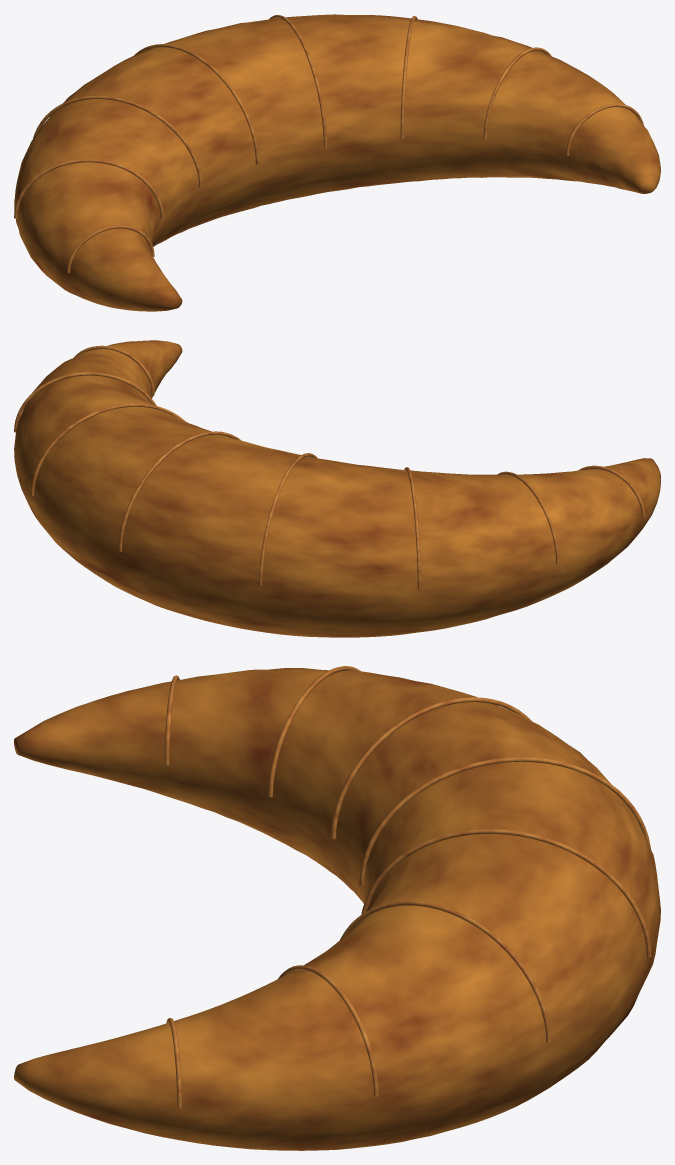
The model's file is food_burst_runtime.glb.
The picture shows the model from 3 angles, top to bottom: view 1: azimuth 30°, elevation 25°; view 2: azimuth 150°, elevation 25°; view 3: azimuth 270°, elevation 25°; orthographic projection. The views are drawn at different scales.
Visible parts, largest first — view 1: fr_food_croissant_body; view 2: fr_food_croissant_body; view 3: fr_food_croissant_body.
Boxes of the visible parts, x1,y1,x2,y2 form: fr_food_croissant_body: (14, 14, 660, 311); fr_food_croissant_body: (14, 340, 660, 637); fr_food_croissant_body: (14, 666, 660, 1150).
Bounding box in the file's own units: 1.15 × 0.3076 × 0.7866.
Materials: 1 (1 with a texture image).
